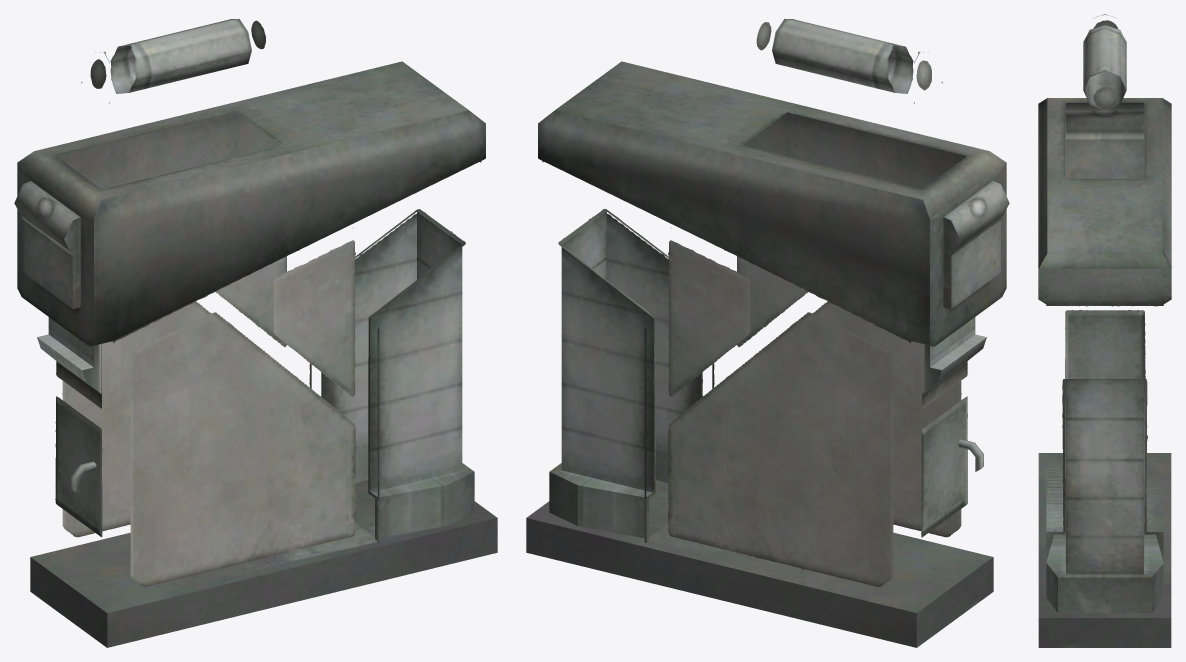
The model's file is eqp_comp_ammo_chaff_l1.fbx.
The picture shows the model from 3 angles, left to right: view 1: azimuth 30°, elevation 25°; view 2: azimuth 150°, elevation 25°; view 3: azimuth 270°, elevation 25°; orthographic projection. The views are drawn at different scales.
Visible parts, largest first — view 1: mesh_node; view 2: mesh_node; view 3: mesh_node.
Part boxes in pixels (bbox=[...]): mesh_node: bbox=[14, 18, 497, 647]; mesh_node: bbox=[526, 18, 1009, 647]; mesh_node: bbox=[1038, 14, 1171, 647].
Size of the model in its own units: 0.5057 by 0.6434 by 0.1603.
1 material, 1 textured.
